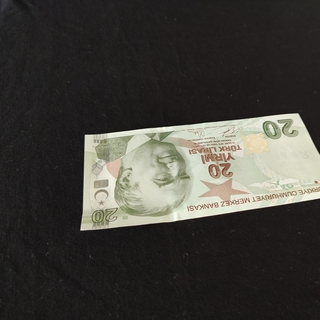20TLFront: (80, 113, 320, 231)
